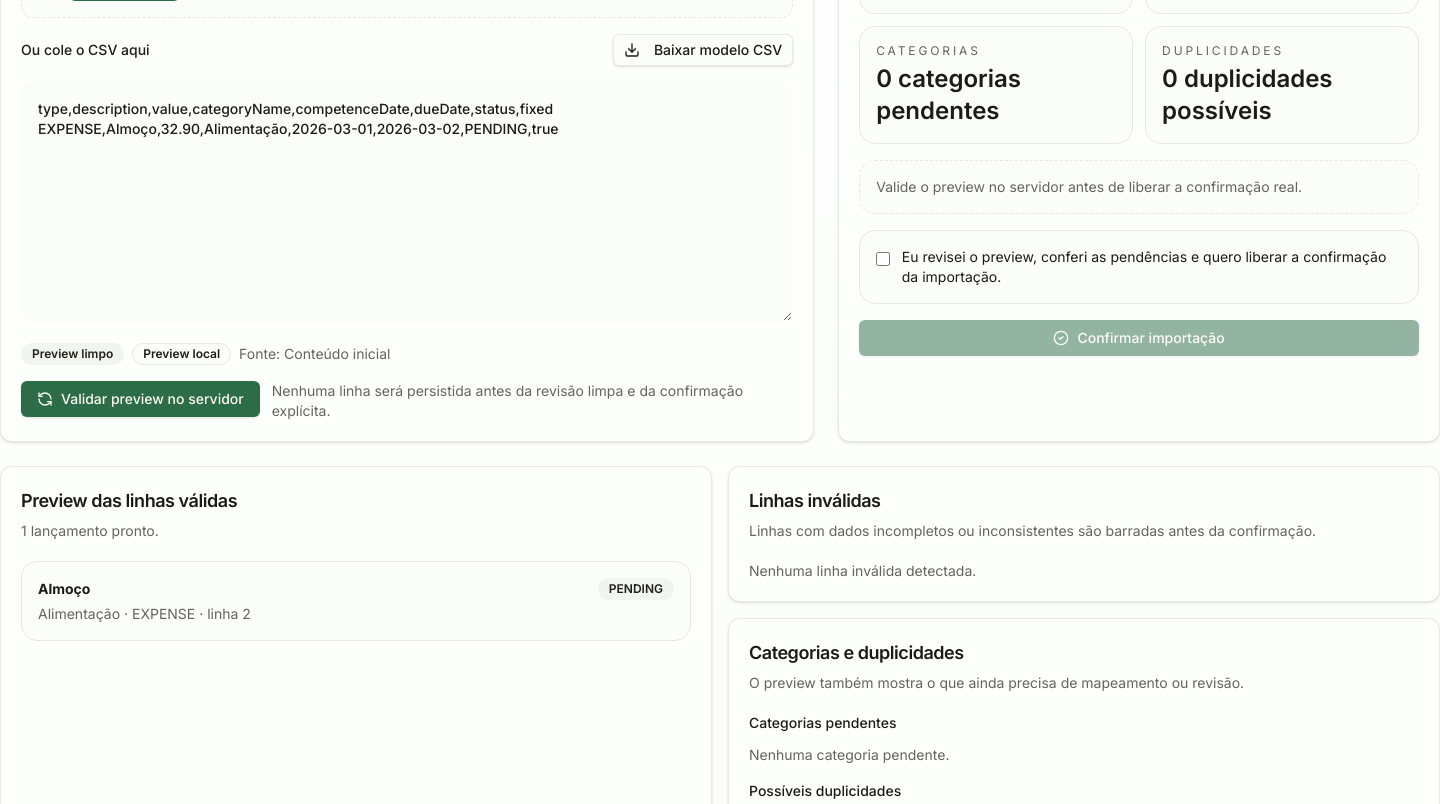
Test: csv import review panel › shows commit errors returned by the real route
(page scrolled)
Click the button "Validar preview no servidor": (140, 399) left=21, top=381, right=260, bottom=417
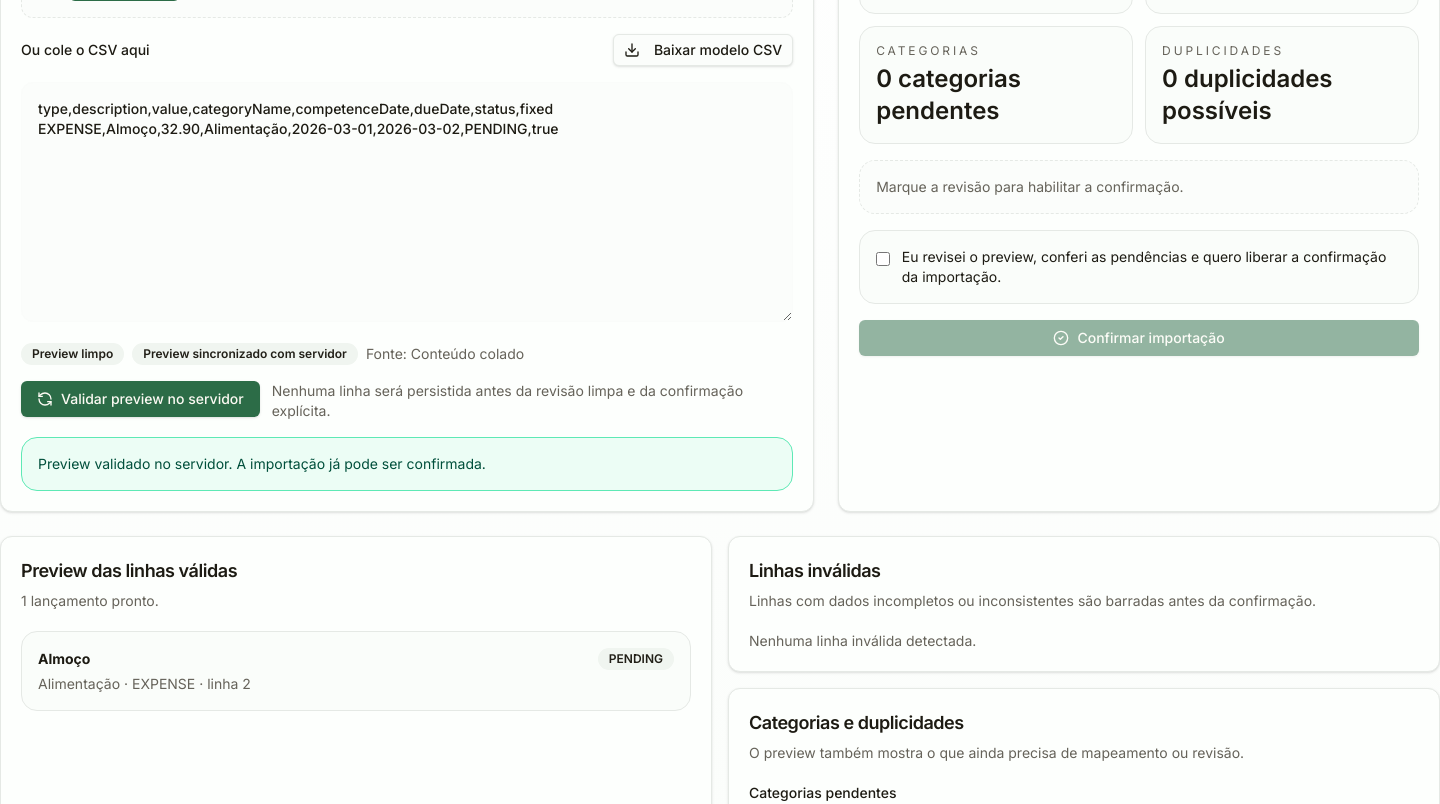
Result: the text "Preview validado no servidor. A importação já pode ser confirmada." is shown at left=21, top=437, right=793, bottom=491
Click the checkbox named "Revisei o preview e confirmo que os dados estão prontos": (883, 259) left=876, top=251, right=890, bottom=267
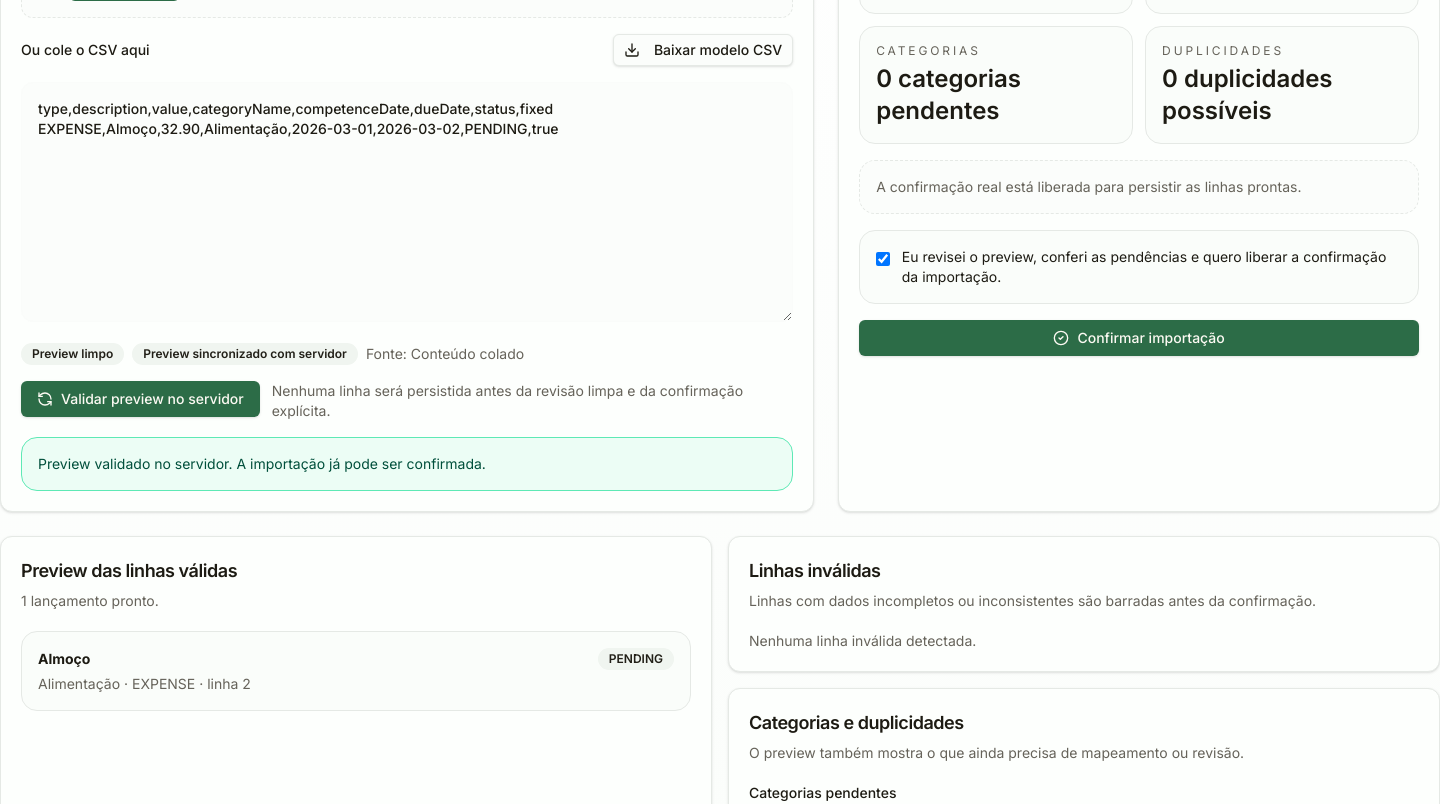
Click the button "Confirmar importação": (1139, 338) left=859, top=320, right=1419, bottom=356
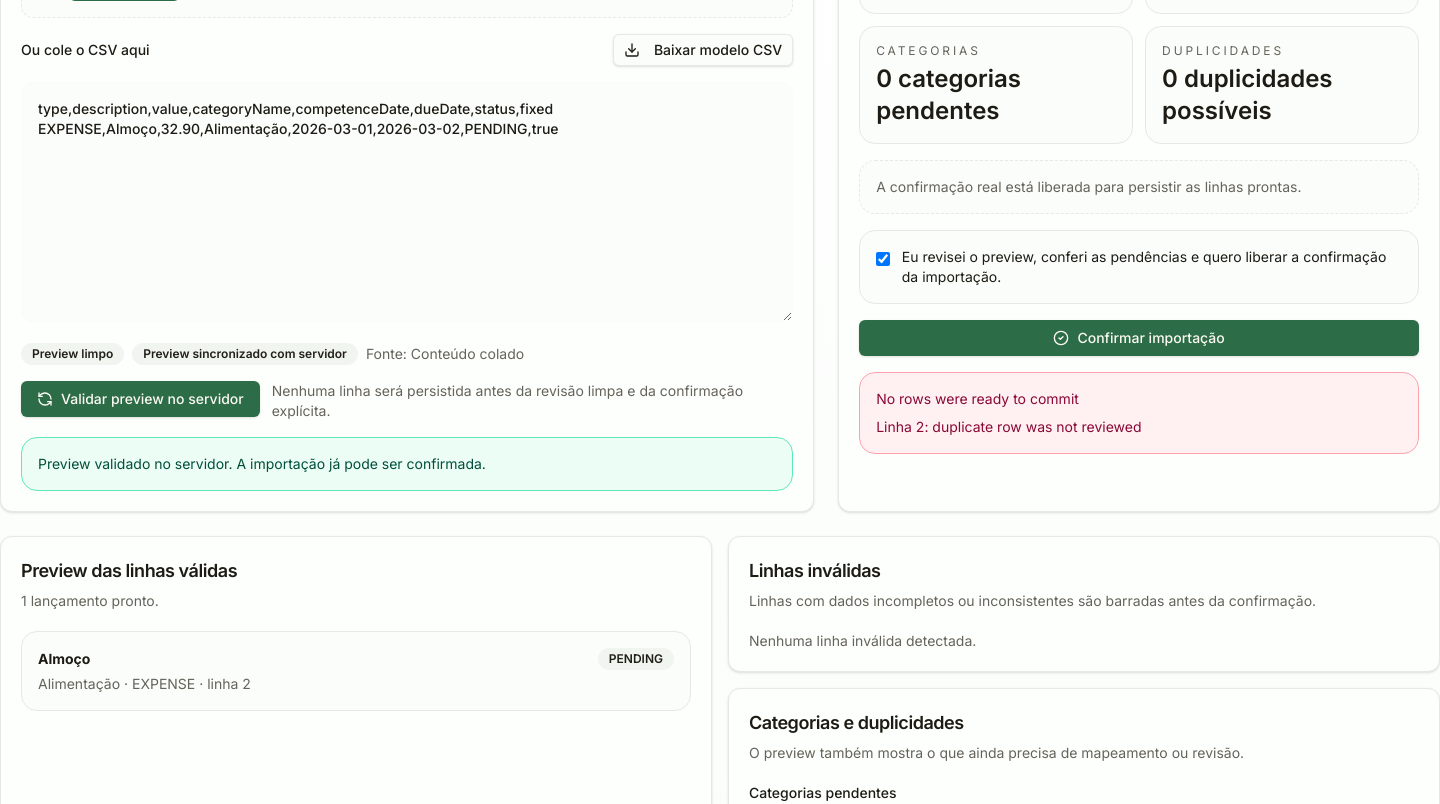
Result: the text "No rows were ready to commit" is shown at left=876, top=390, right=1079, bottom=407
Result: the text "Linha 2: duplicate row was not reviewed" is shown at left=876, top=418, right=1142, bottom=435
